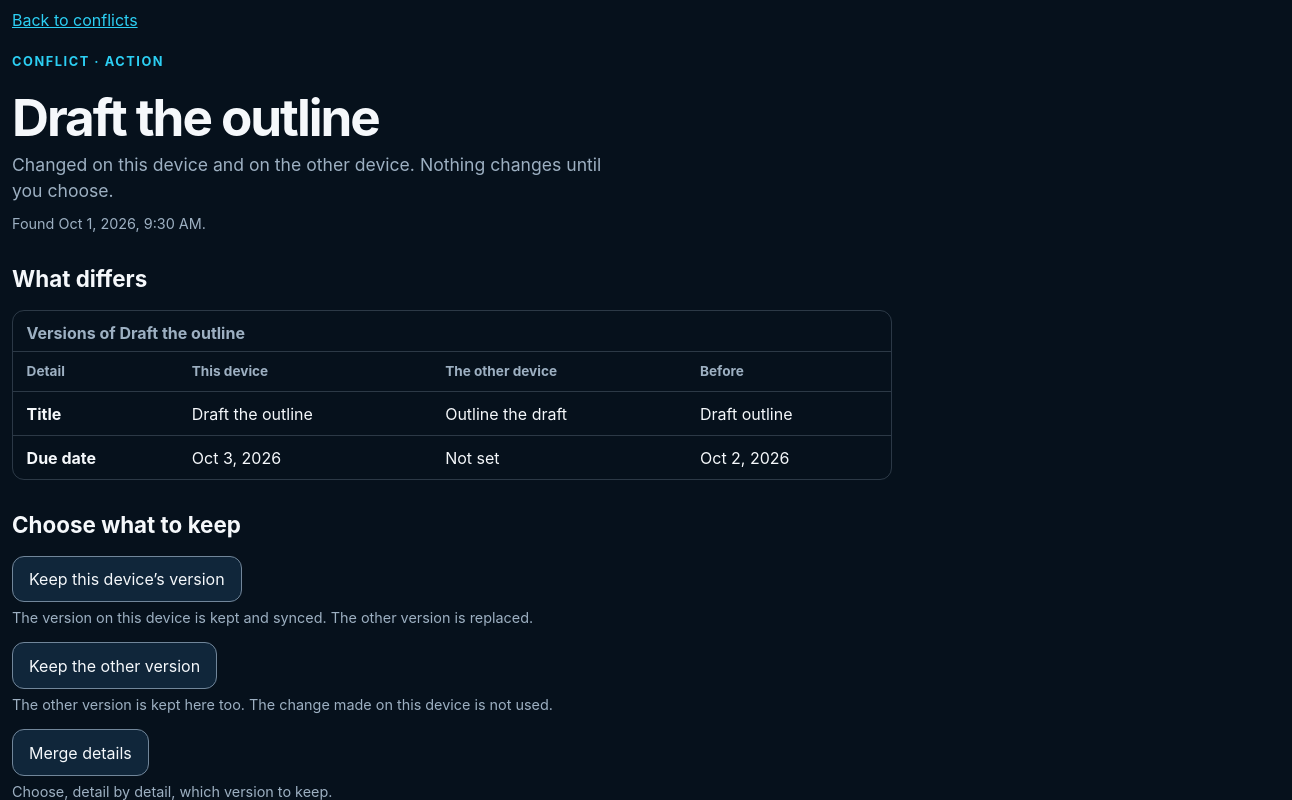
Test: Conflict detail › resolves with a choice, then returns to the list with a status that receives focus
Click the button "Keep this device’s version": (127, 579) [12,556,242,602]
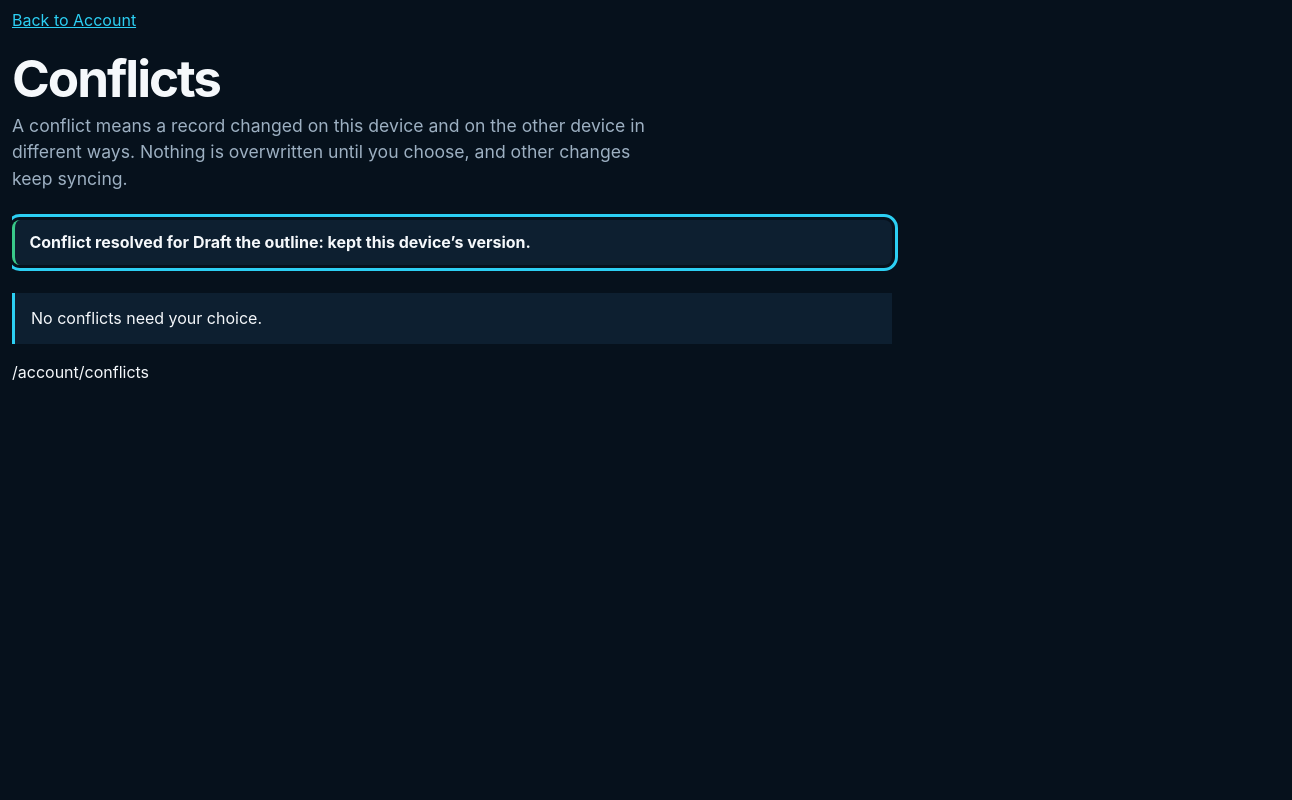
expect the heading "Conflicts" is shown: met, box [12,47,220,109]
expect the text with test id "location" reads "/account/conflicts": met, box [12,362,149,382]
expect the text "No conflicts need your choice." is shown: met, box [12,293,892,344]
